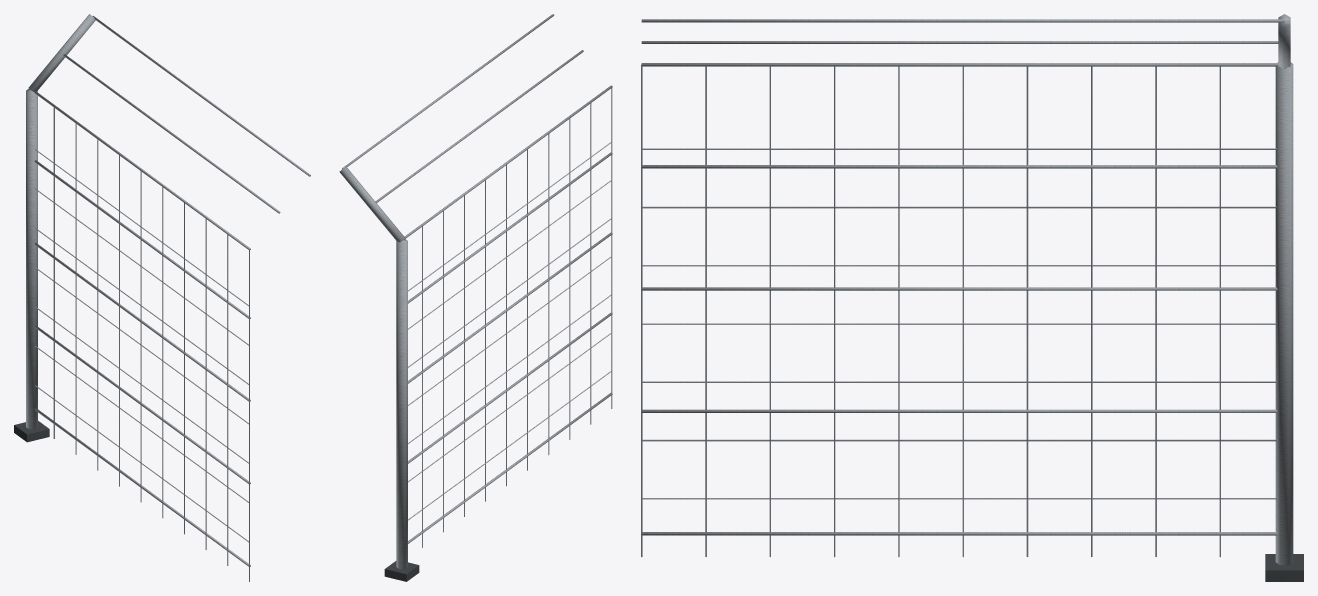
Rendered from catch-fence_mobile.glb.
The picture shows the model from 3 angles, left to right: view 1: azimuth 30°, elevation 25°; view 2: azimuth 150°, elevation 25°; view 3: azimuth 270°, elevation 25°; orthographic projection. The views are drawn at different scales.
Visible parts, largest first — view 1: galvanised, dark-steel; view 2: galvanised, dark-steel; view 3: galvanised, dark-steel.
Part boxes in pixels (<box>): galvanised: <box>26,14,310,581</box>; dark-steel: <box>14,421,49,442</box>; galvanised: <box>339,14,612,569</box>; dark-steel: <box>384,561,419,581</box>; galvanised: <box>641,14,1293,565</box>; dark-steel: <box>1265,554,1303,581</box>.
Size of the model in its own units: 0.8004 by 4.13 by 4.12.
2 materials, 2 textured.
